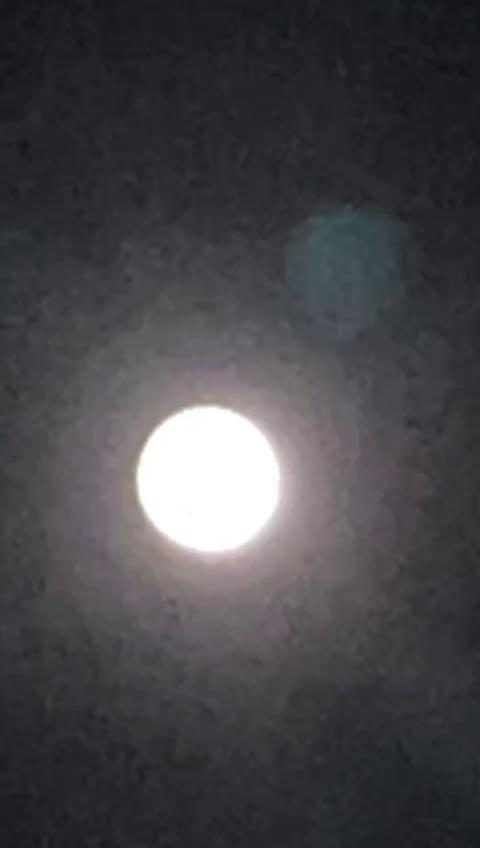moon: (126, 371, 292, 562)
